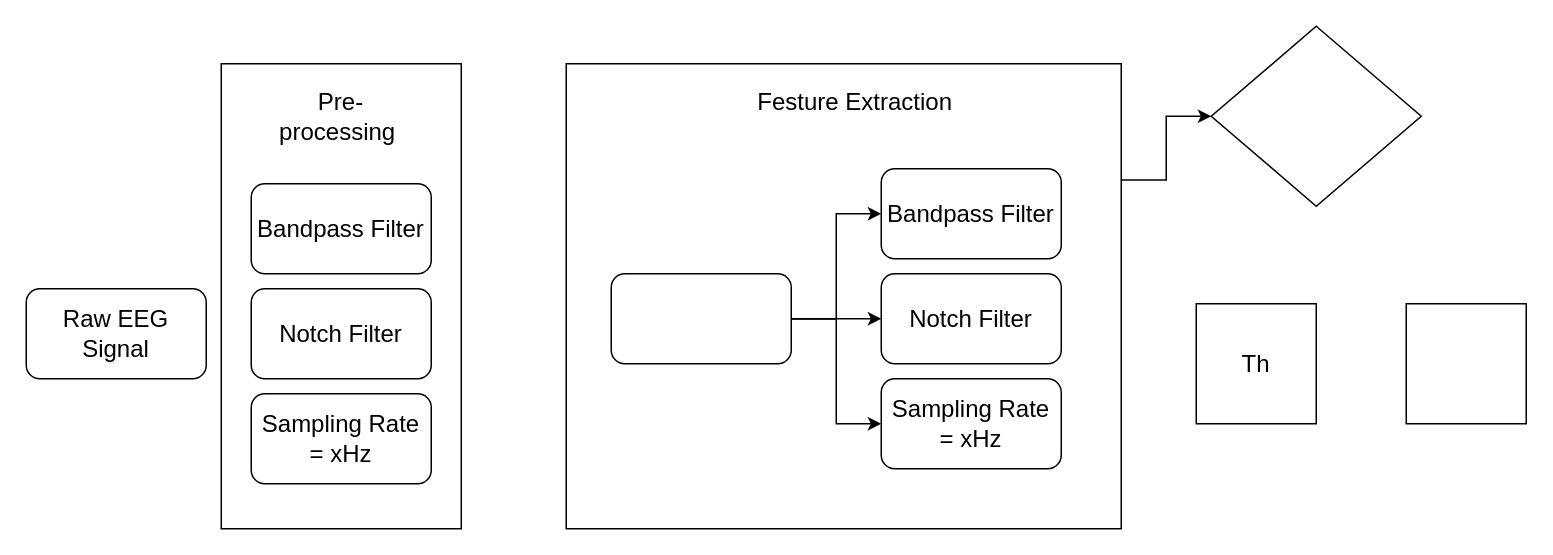
This 1553x555 diagram has some shape labels left out. Here are the shapes that lost their labels. From the top down, the centre of each, then its label:
At [1315,115]: "Classification".
At [700,318]: "Short Term Windowing".
